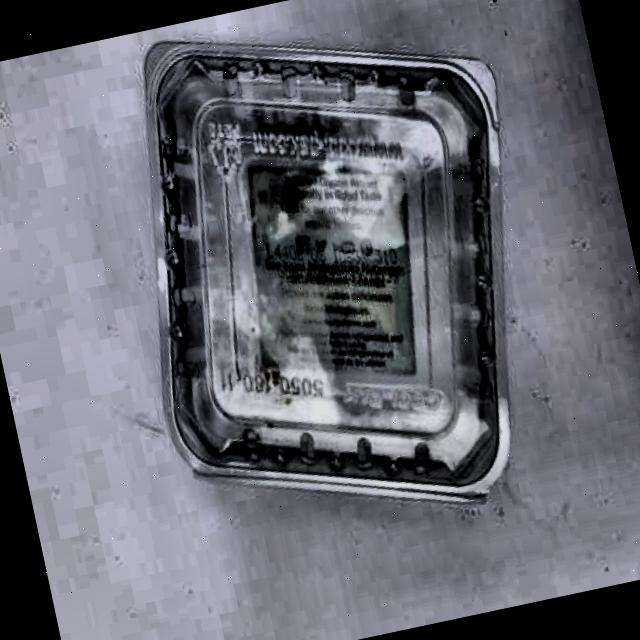plastic: (92, 0, 570, 557)
